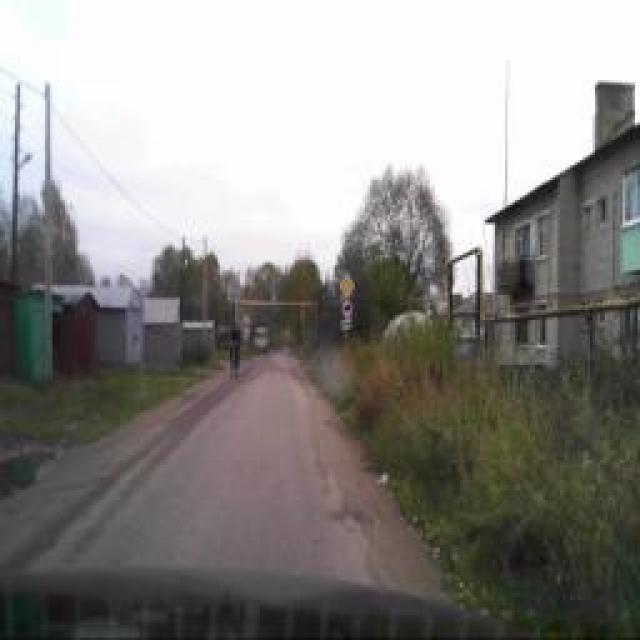sign: (341, 298, 354, 318)
